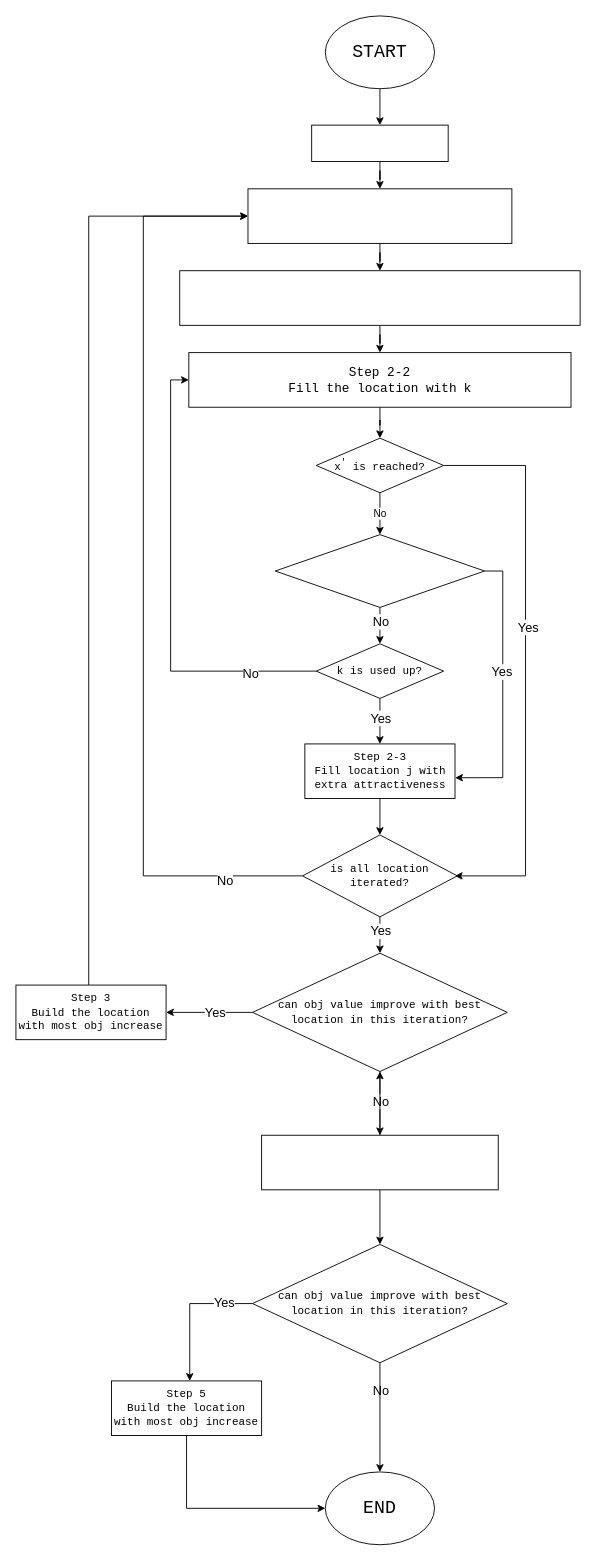
Image size: 596x1561. Some labels were removed from this diagram. The centre of each missing label's shape, as x and y in pixels:
"limit of k at j is reached?" belongs at [379,570].
"Step 1 Initialization" belongs at [379,143].
"Step 2 Iteration for each location and utility percentage (100%, 50%)" belongs at [379,215].
"Step 2-1 Find the resource k that has the most utility to j" belongs at [379,297].
"Step 4 One more iteration, consider (64%,32%,16%,8%,4%,2%,1%)" belongs at [379,1162].
